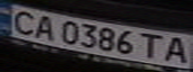0: (54, 18, 81, 46)
3: (75, 21, 100, 50)
6: (115, 28, 139, 56)
8: (97, 25, 118, 53)
A: (160, 34, 193, 65), (27, 14, 60, 40)
C: (3, 7, 42, 36)
T: (136, 30, 169, 60)
